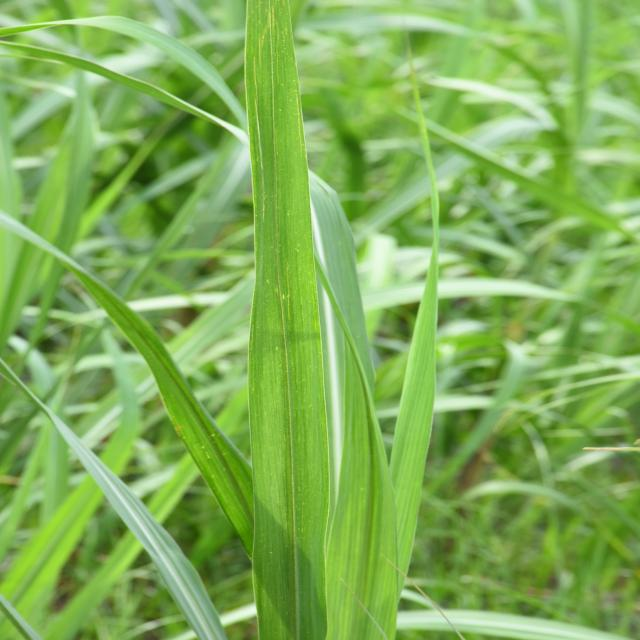Sugarcane: (242, 1, 338, 640)
